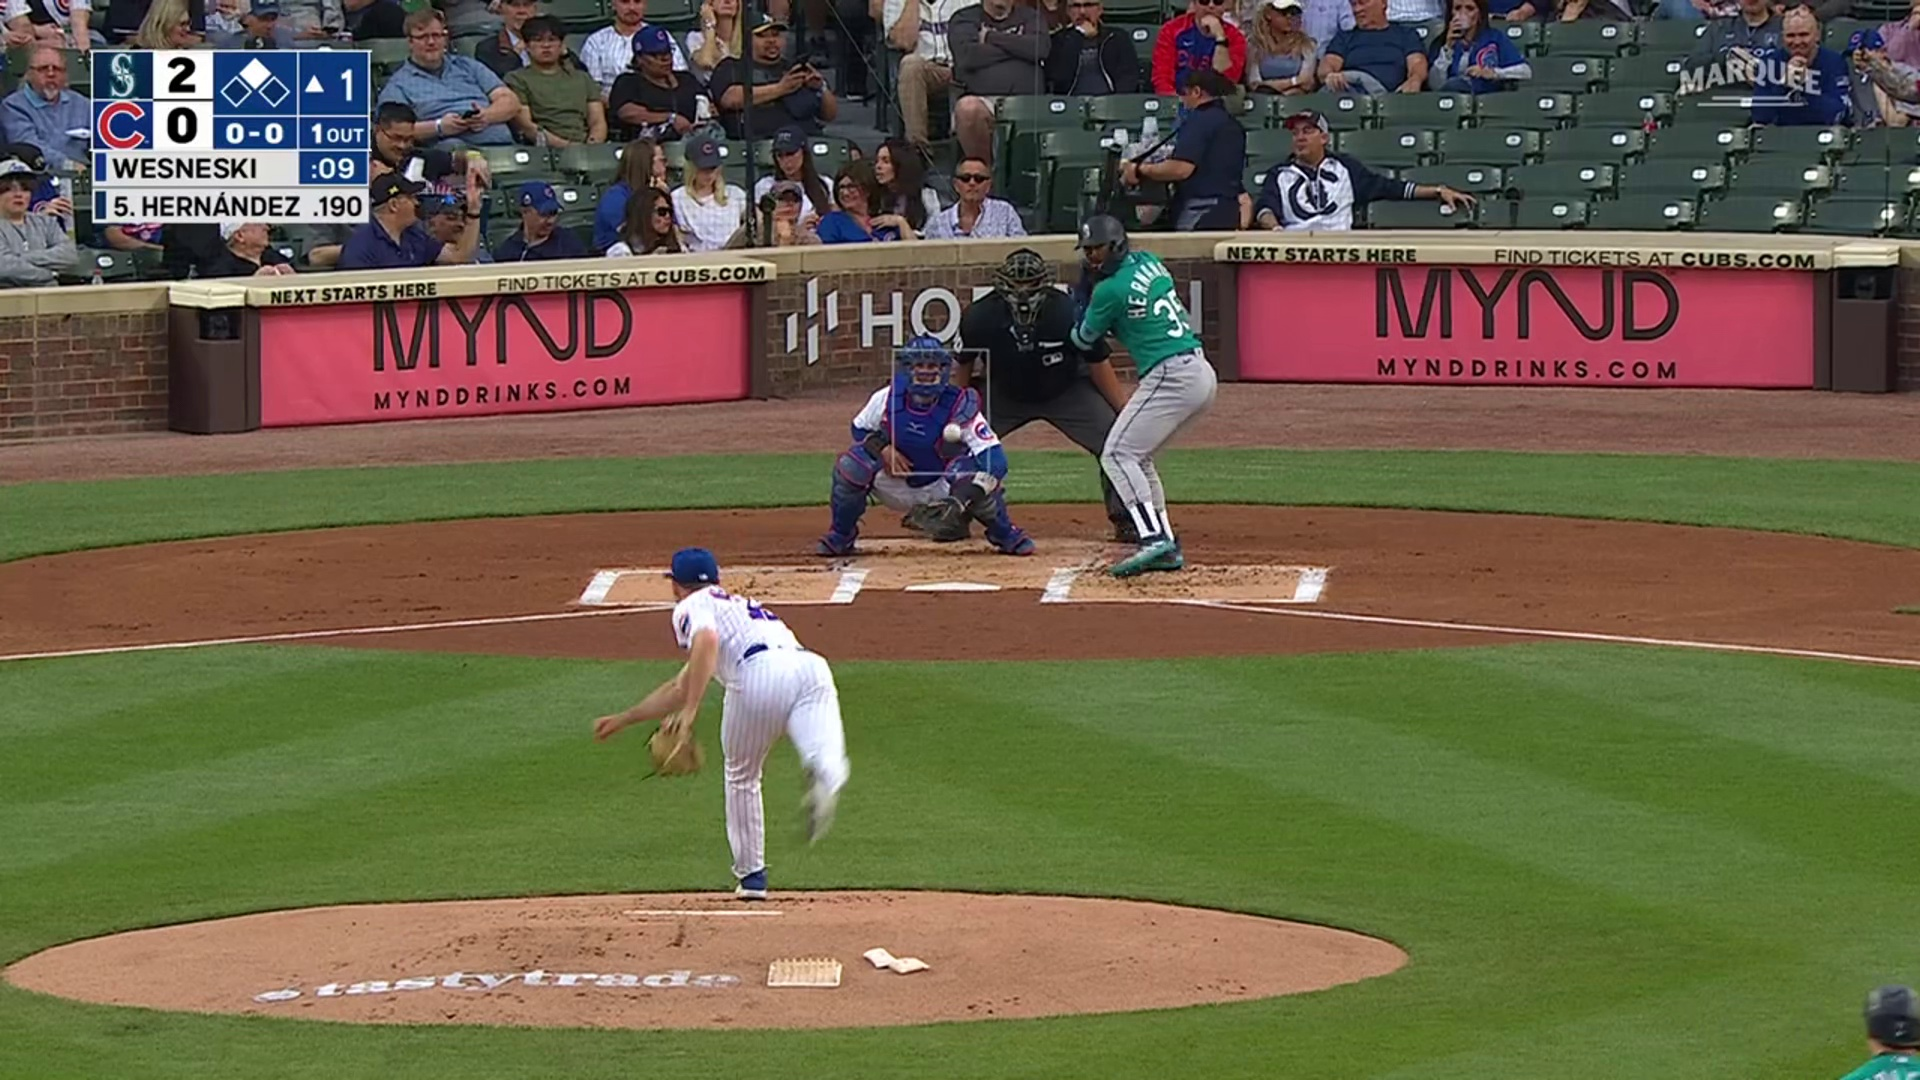baseball: (942, 422, 960, 442)
